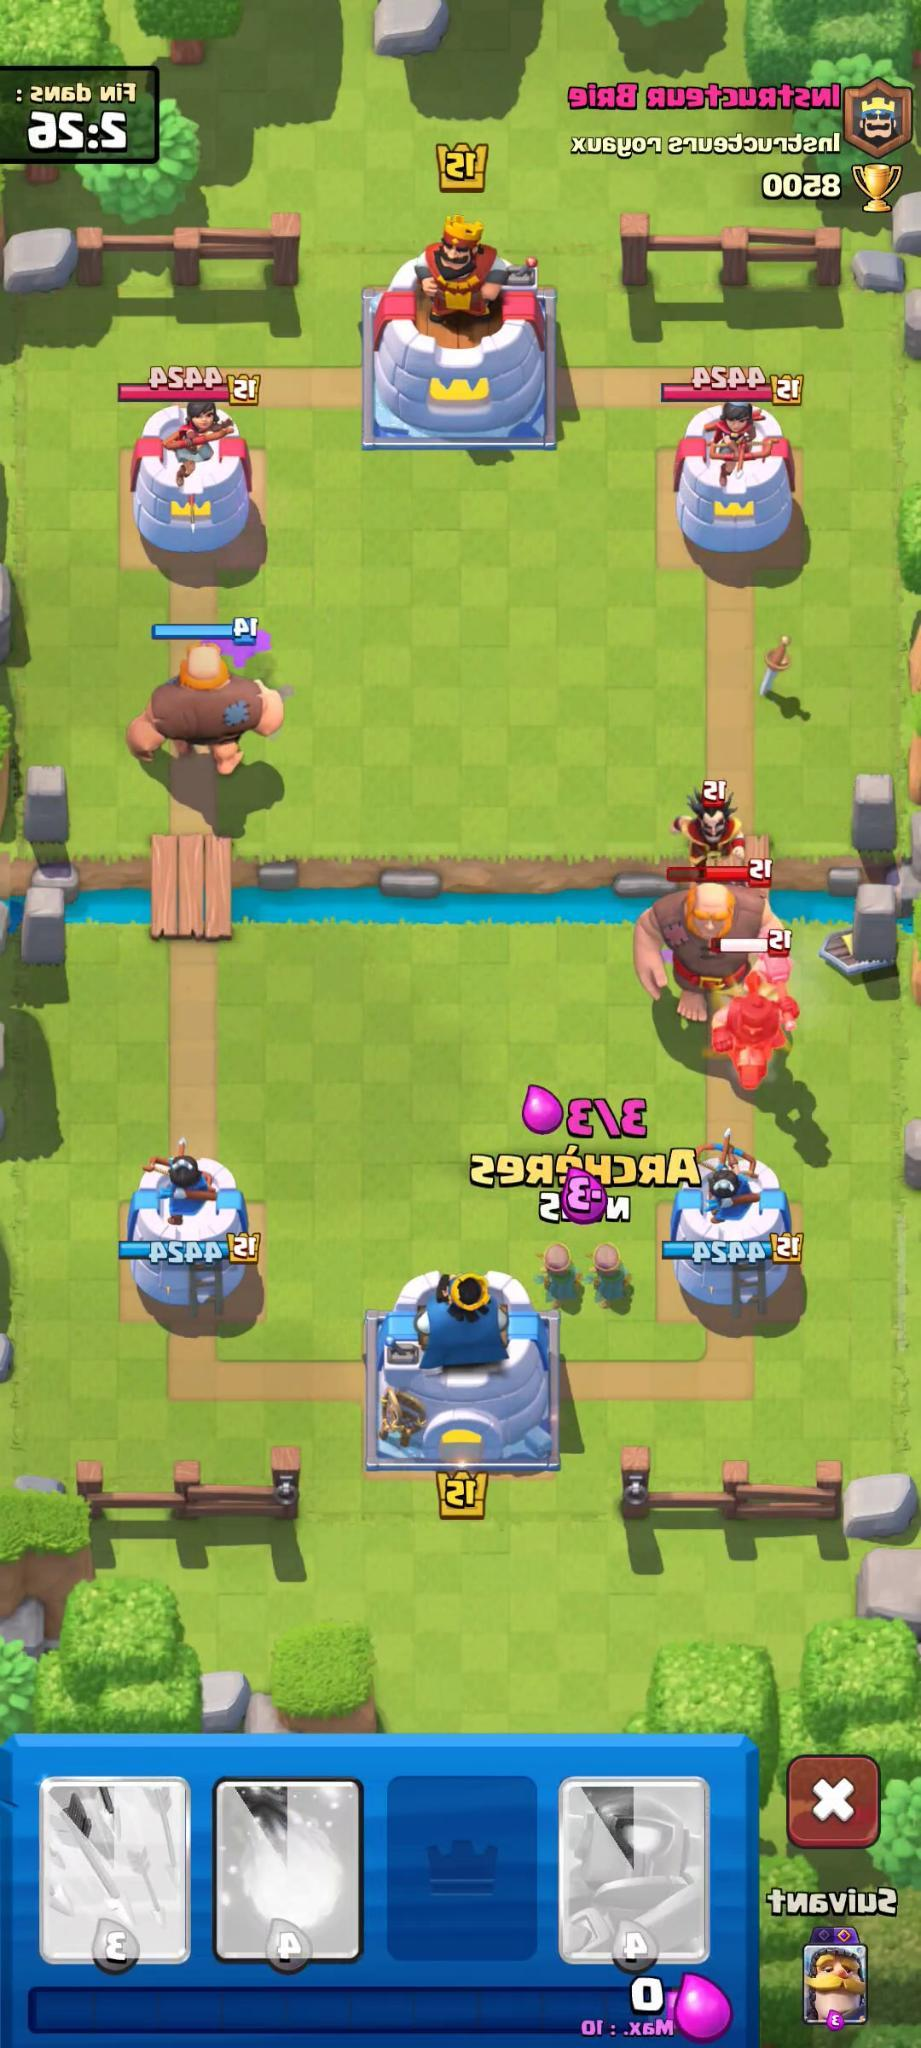enemy_dark_prince: (706, 934, 807, 1097)
enemy_electro_wizard: (665, 768, 759, 880)
enemy_giant: (628, 865, 787, 1026)
player_giant: (121, 630, 290, 781)
